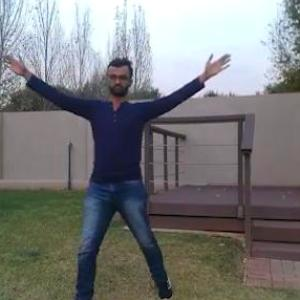takeoff: (0, 47, 238, 299)
